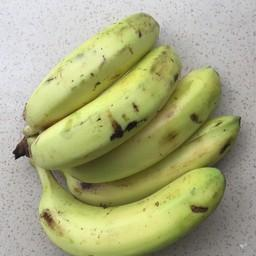Good_banana: (27, 113, 245, 210), (31, 45, 181, 172), (71, 67, 226, 187), (26, 11, 161, 133), (41, 181, 230, 256)
